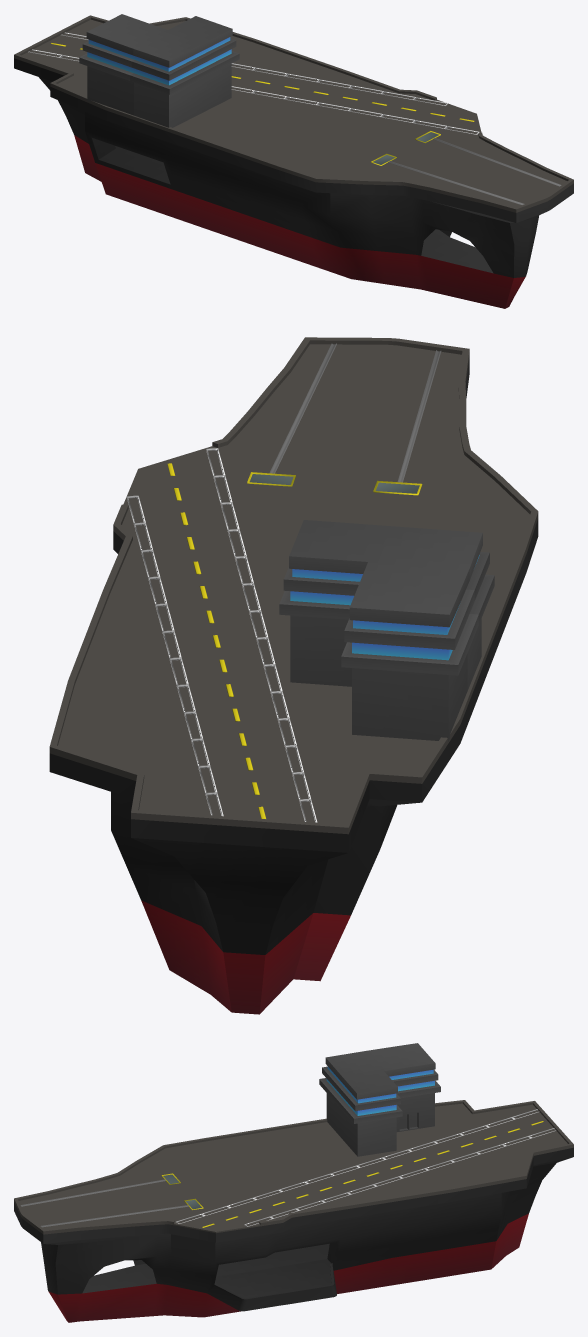
File: poortaviones_02.fbx
3 renders of one model, top to bottom at view 1: azimuth 30°, elevation 25°; view 2: azimuth 150°, elevation 25°; view 3: azimuth 270°, elevation 25°, orthographic. The views are drawn at different scales.
Visible parts, largest first — view 1: PortaAviones.004, PortaAviones.001, Plane.009, Cube.050, Cube.049, Cube.048; view 2: PortaAviones.001, PortaAviones.004, Plane.009, Cube.050, Cube.049, Cube.048, Plane.018, Plane.019; view 3: PortaAviones.004, PortaAviones.001, Plane.009, Cube.050, Cube.049, Cube.048, Plane.019.
Boxes of the visible parts, box(x1,y1,x2,y2) form: PortaAviones.004: box(14, 58, 573, 308); PortaAviones.001: box(14, 15, 573, 212); Plane.009: box(79, 14, 239, 127); Cube.050: box(28, 49, 479, 134); Cube.049: box(61, 32, 448, 106); Cube.048: box(388, 138, 561, 204); PortaAviones.001: box(49, 337, 538, 834); PortaAviones.004: box(49, 356, 538, 1014); Plane.009: box(279, 520, 494, 741); Cube.050: box(206, 448, 317, 822); Cube.049: box(126, 495, 223, 816); Cube.048: box(269, 343, 441, 482); Plane.018: box(247, 472, 422, 495); Plane.019: box(167, 463, 266, 818); PortaAviones.004: box(14, 1147, 573, 1322); PortaAviones.001: box(14, 1100, 573, 1234); Plane.009: box(319, 1043, 440, 1156); Cube.050: box(176, 1109, 539, 1224); Cube.049: box(244, 1128, 556, 1226); Cube.048: box(20, 1179, 188, 1227); Plane.019: box(202, 1121, 543, 1227).
Bounding box in the file's own units: 10251 × 6399 × 18452.
